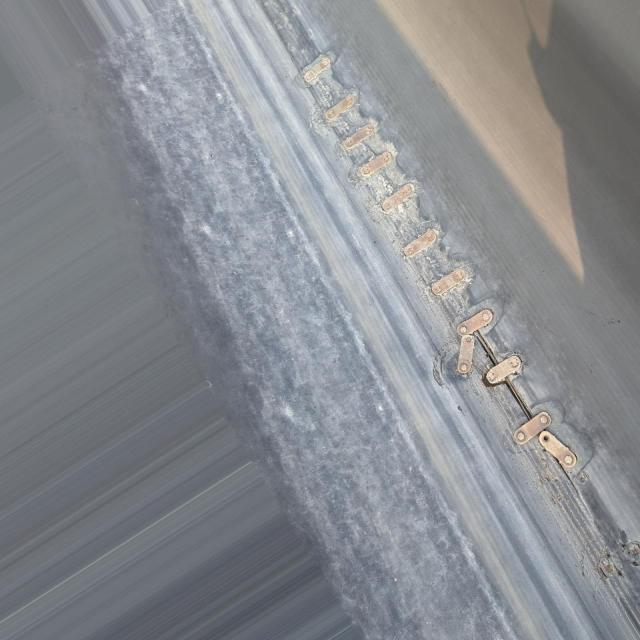patch work: (272, 21, 640, 610)
